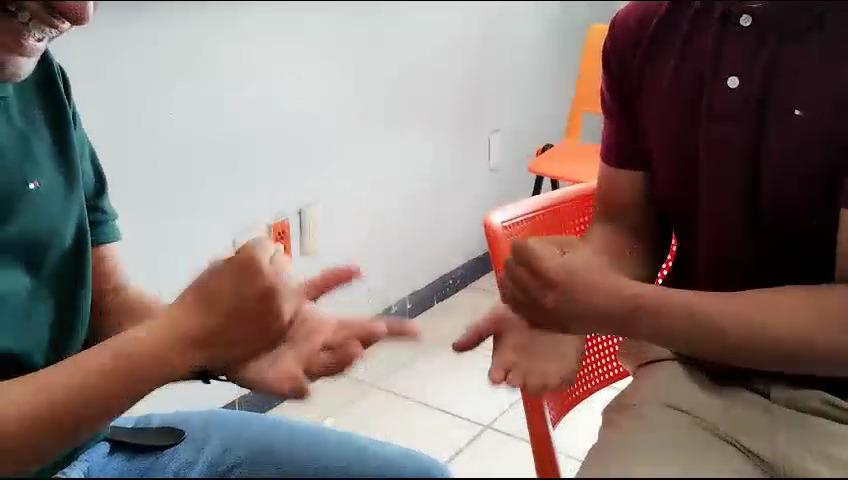Stone: (167, 214, 316, 374), (483, 221, 628, 343)
